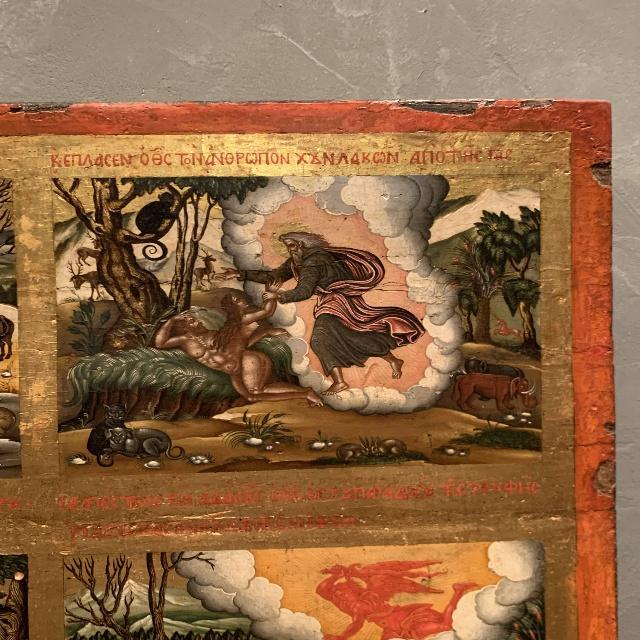adam: (164, 313, 244, 403)
aura: (267, 218, 331, 265)
cloud: (416, 270, 460, 400), (344, 176, 448, 223), (233, 178, 342, 215), (372, 216, 431, 276), (328, 389, 440, 413)
elephant: (444, 378, 545, 409), (456, 362, 527, 378)
eve: (222, 285, 283, 365)
father: (237, 219, 431, 389)
monkey: (134, 193, 176, 258)
